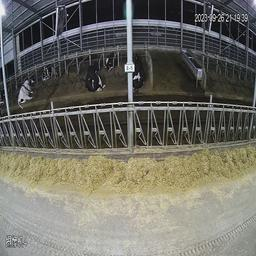cow: (84, 60, 104, 94), (131, 55, 147, 91), (17, 75, 36, 105), (41, 63, 56, 82), (104, 52, 116, 72)
